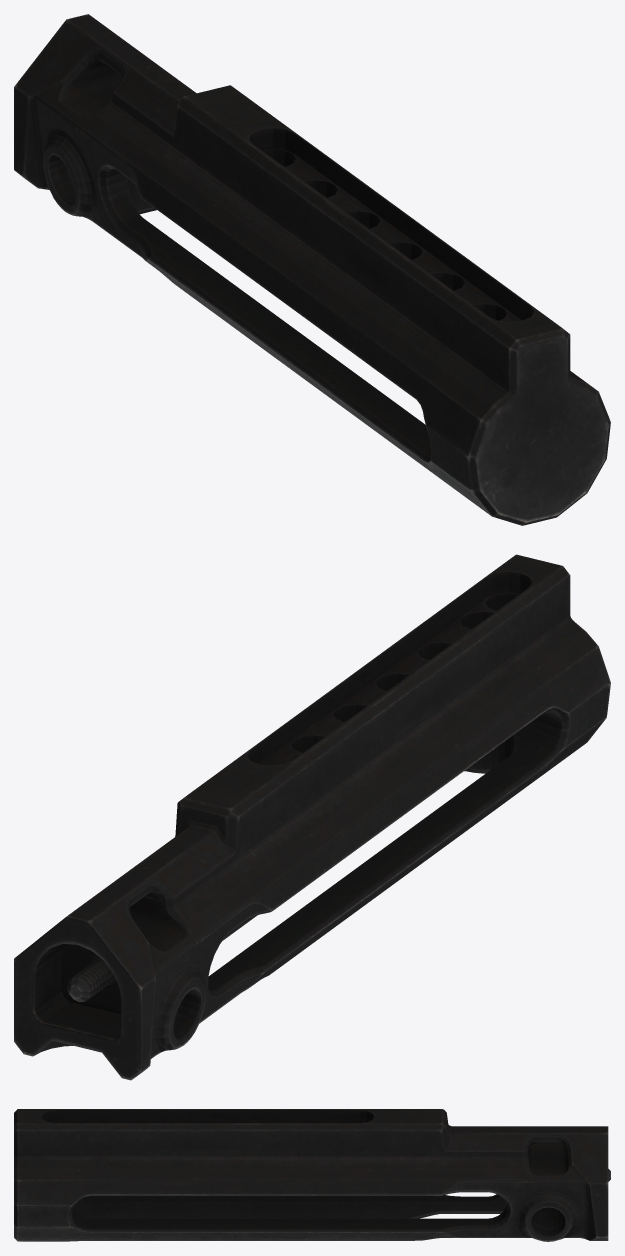
3 views of the same model, one above another, from view 1: azimuth 30°, elevation 25°; view 2: azimuth 150°, elevation 25°; view 3: azimuth 270°, elevation 25° (orthographic). The views are drawn at different scales.
Visible parts, largest first — view 1: TW_628b9a40717774443b15e9f2_PZ_Import; view 2: TW_628b9a40717774443b15e9f2_PZ_Import; view 3: TW_628b9a40717774443b15e9f2_PZ_Import.
Part boxes in pixels (x1,y1,x2,y2): TW_628b9a40717774443b15e9f2_PZ_Import: (14, 14, 610, 525); TW_628b9a40717774443b15e9f2_PZ_Import: (14, 554, 610, 1080); TW_628b9a40717774443b15e9f2_PZ_Import: (14, 1109, 610, 1241).
Size of the model in its own units: 0.0169 by 0.0958 by 0.0212.
1 material, 1 textured.
